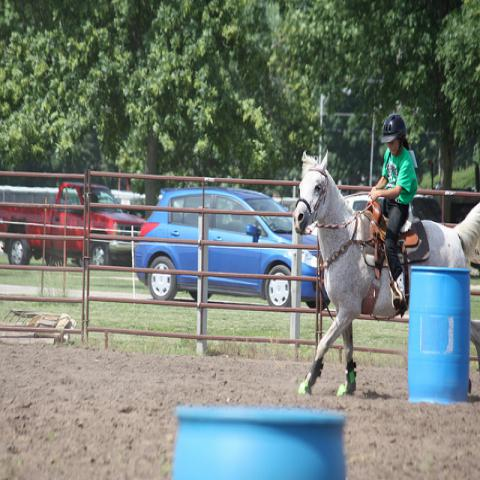car: (135, 188, 318, 310), (0, 180, 142, 268), (410, 196, 442, 222)
truck: (0, 183, 145, 267)
